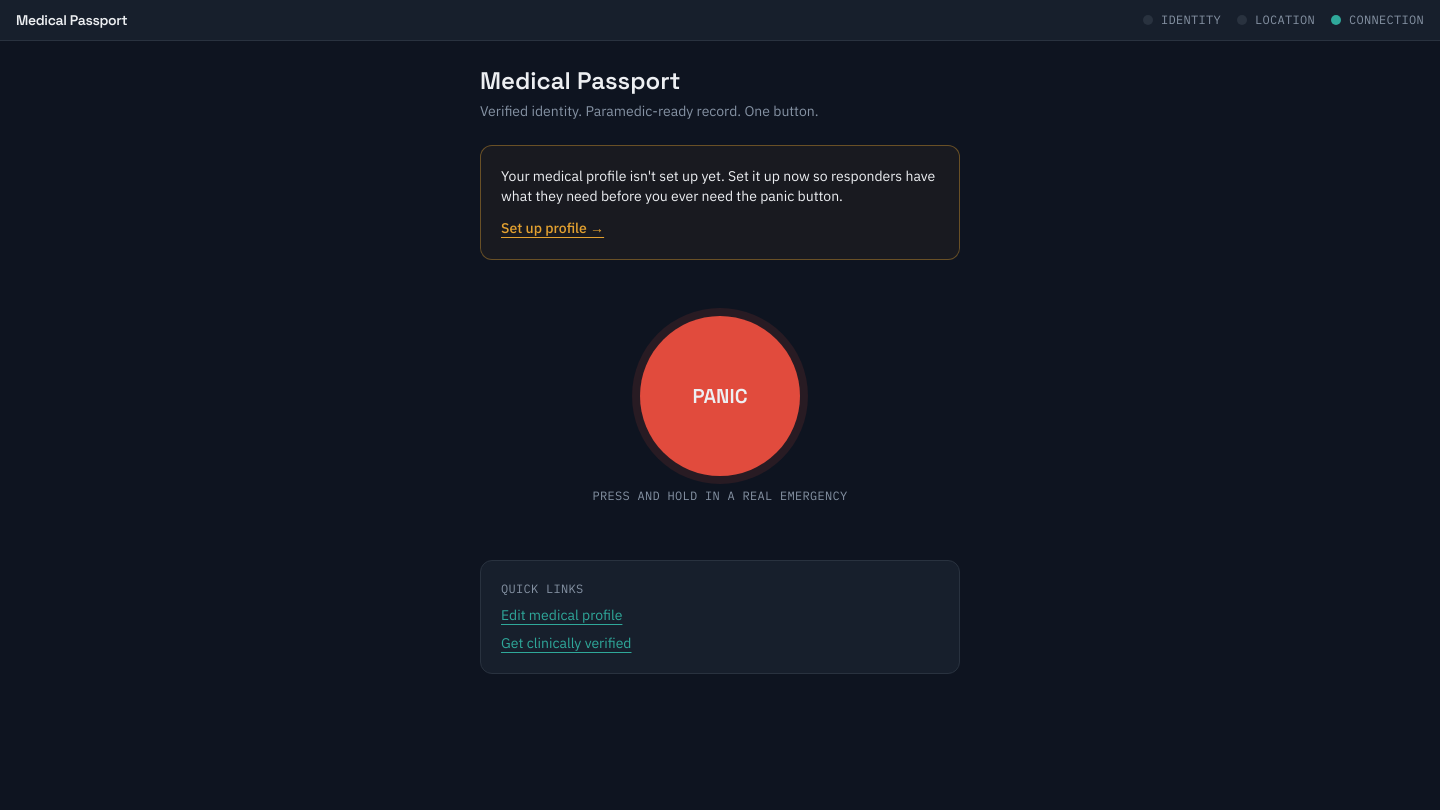
it: App › boots at the panic button and can navigate into the flow
expect the heading "Medical Passport" is shown: met, box [480,65,681,96]
expect the button "PANIC" is shown: met, box [640,316,800,476]
Click the link "Set up profile →": (553, 228) [501,218,604,238]
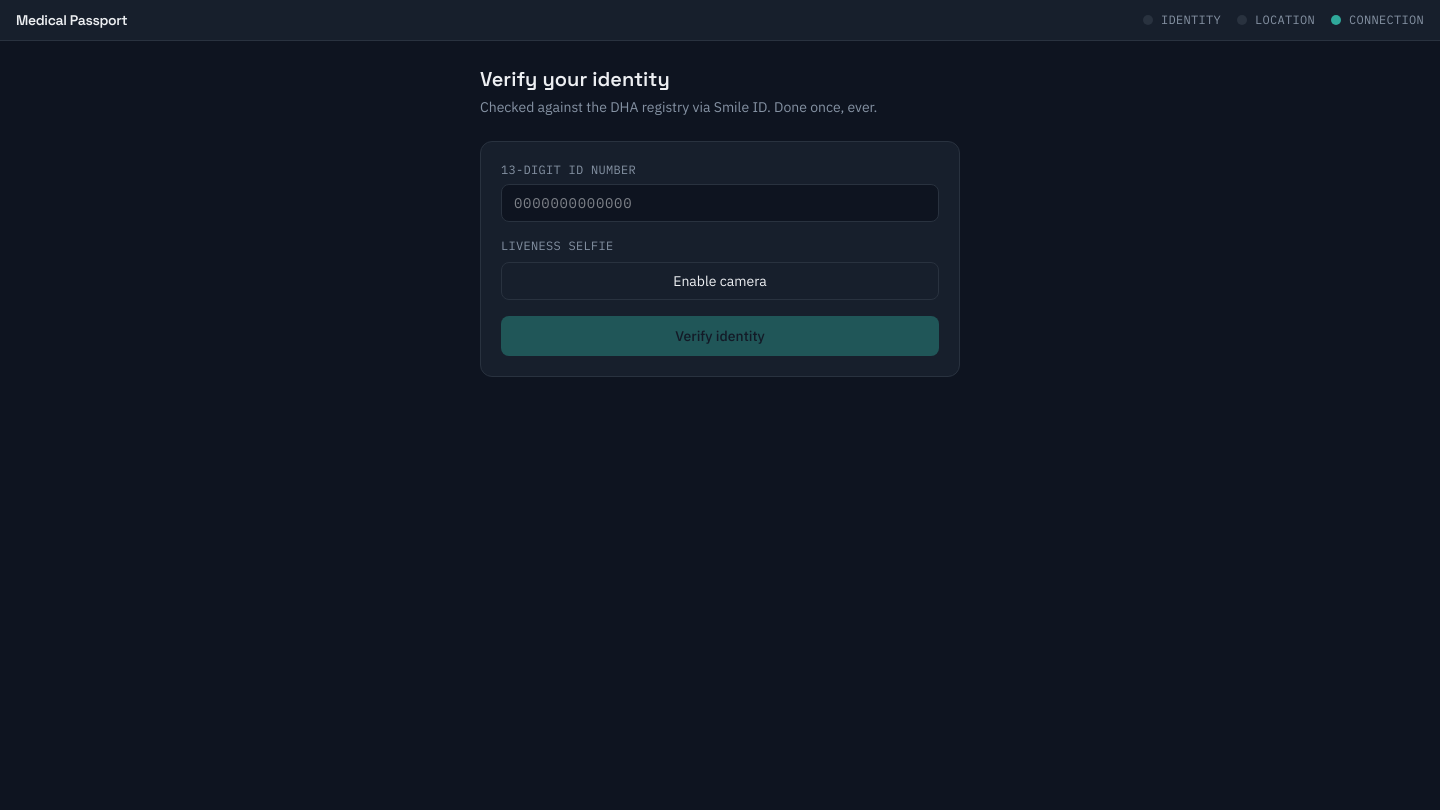
expect the heading "Verify your identity" is shown: met, box [480,66,670,92]
